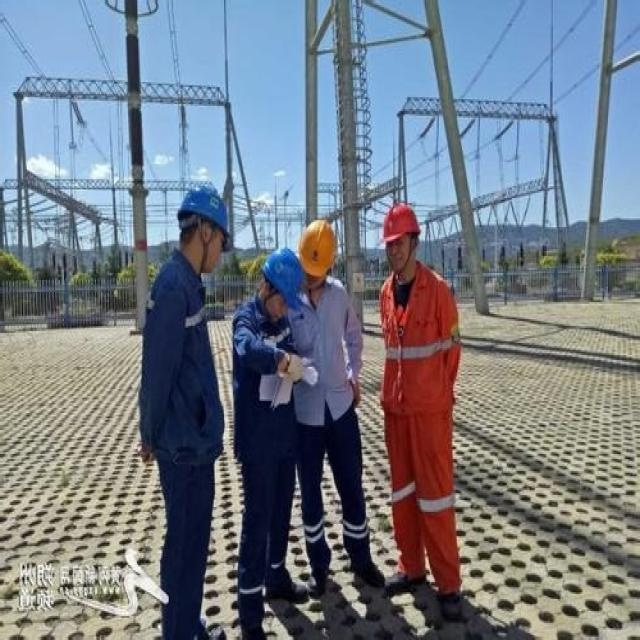Con_Casco: (180, 181, 233, 273), (384, 203, 417, 274)
